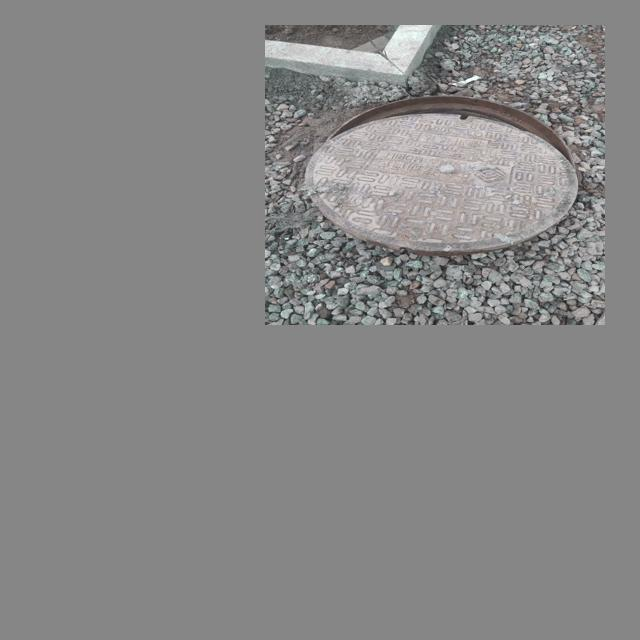uncovered: (310, 96, 582, 255)
